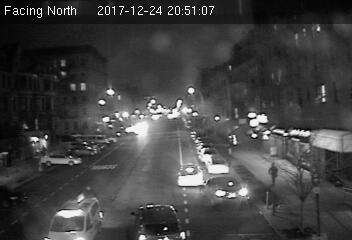car: (42, 194, 108, 240), (129, 203, 186, 240), (203, 176, 253, 208), (174, 162, 206, 188), (206, 157, 230, 175)
